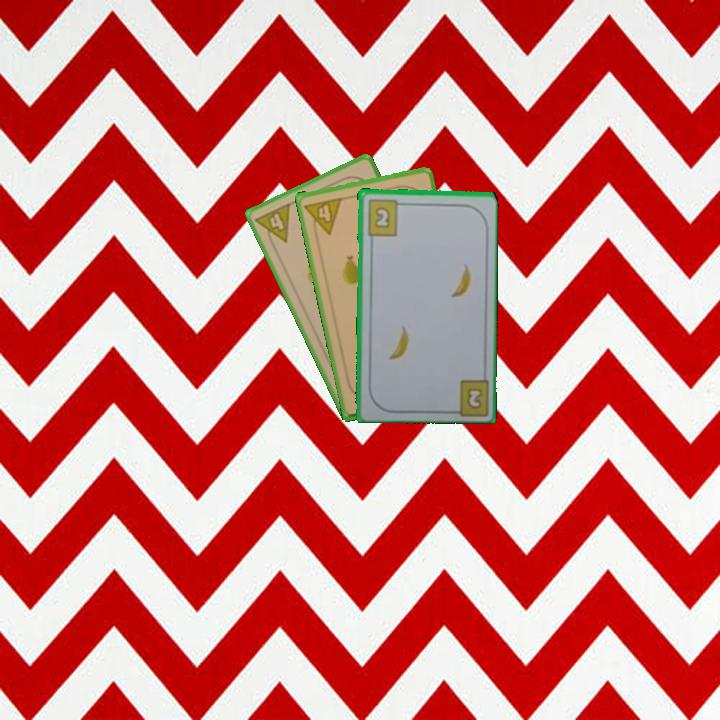2b: (364, 196, 406, 238), (465, 386, 483, 409)
4p: (252, 199, 293, 251), (301, 193, 345, 239)
